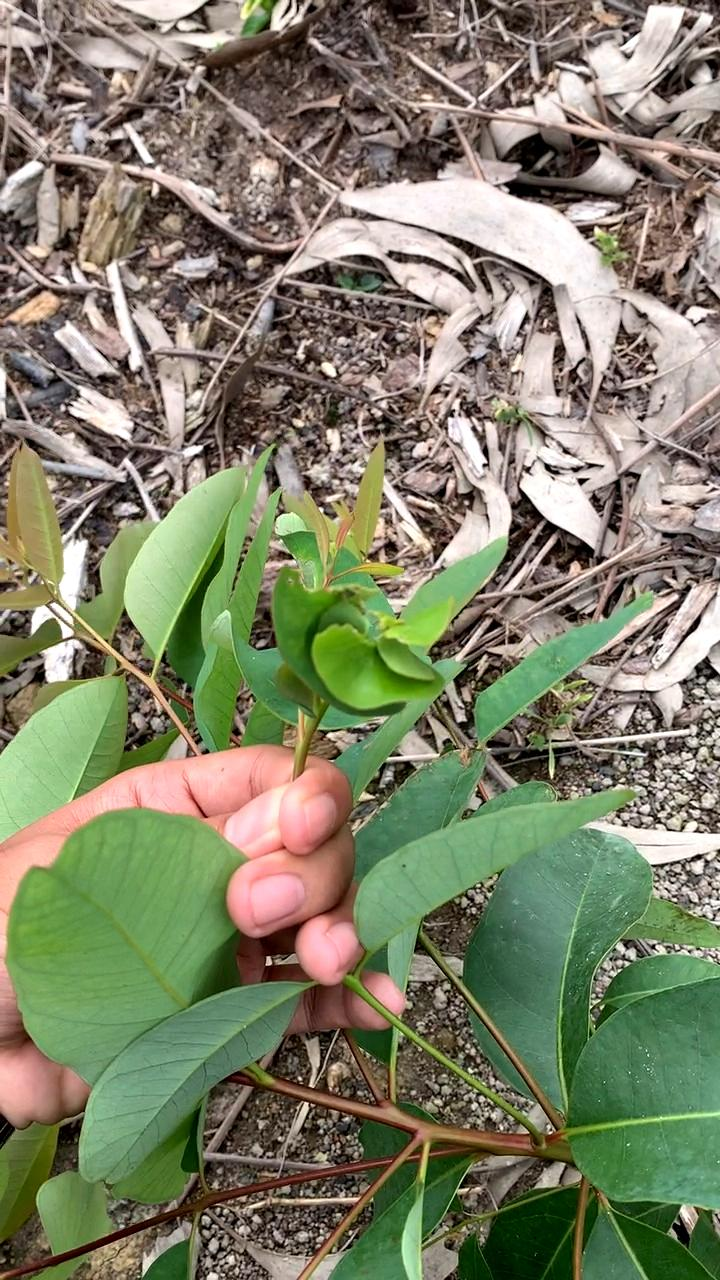Leaf Roller - Leaf: (259, 528, 485, 766)
